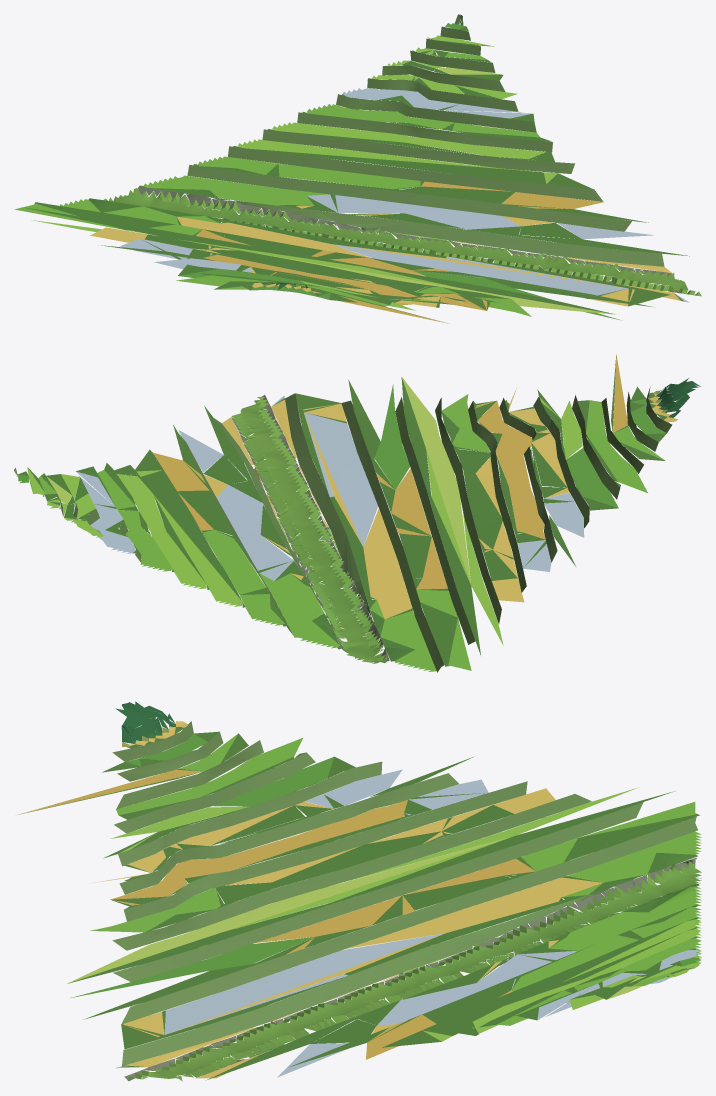
Rendered from payo_land_xm2_y5_lod1.glb.
The picture shows the model from 3 angles, top to bottom: view 1: azimuth 30°, elevation 25°; view 2: azimuth 150°, elevation 25°; view 3: azimuth 270°, elevation 25°; orthographic projection. The views are drawn at different scales.
Visible parts, largest first — view 1: payo_land_xm2_y5; view 2: payo_land_xm2_y5; view 3: payo_land_xm2_y5.
Part boxes in pixels (<box>): payo_land_xm2_y5: <box>14,14,701,323</box>; payo_land_xm2_y5: <box>14,354,700,672</box>; payo_land_xm2_y5: <box>16,701,701,1081</box>.
Size of the model in its own units: 289 by 67.56 by 306.
